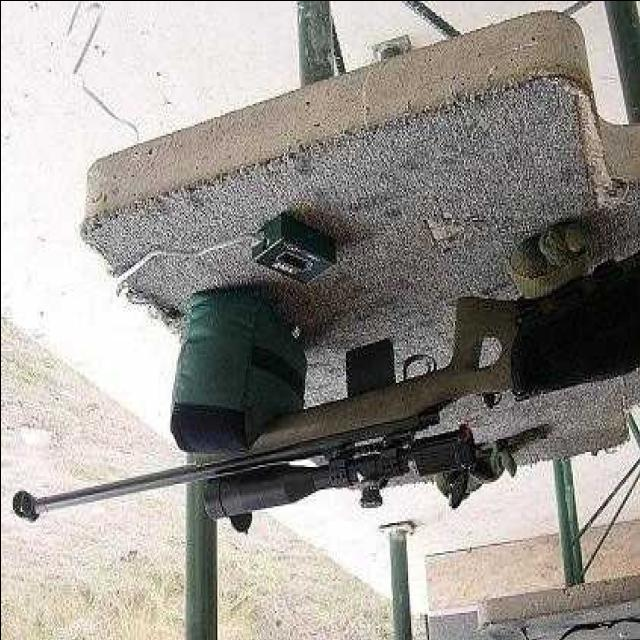heavyweapon: (11, 207, 640, 576)
